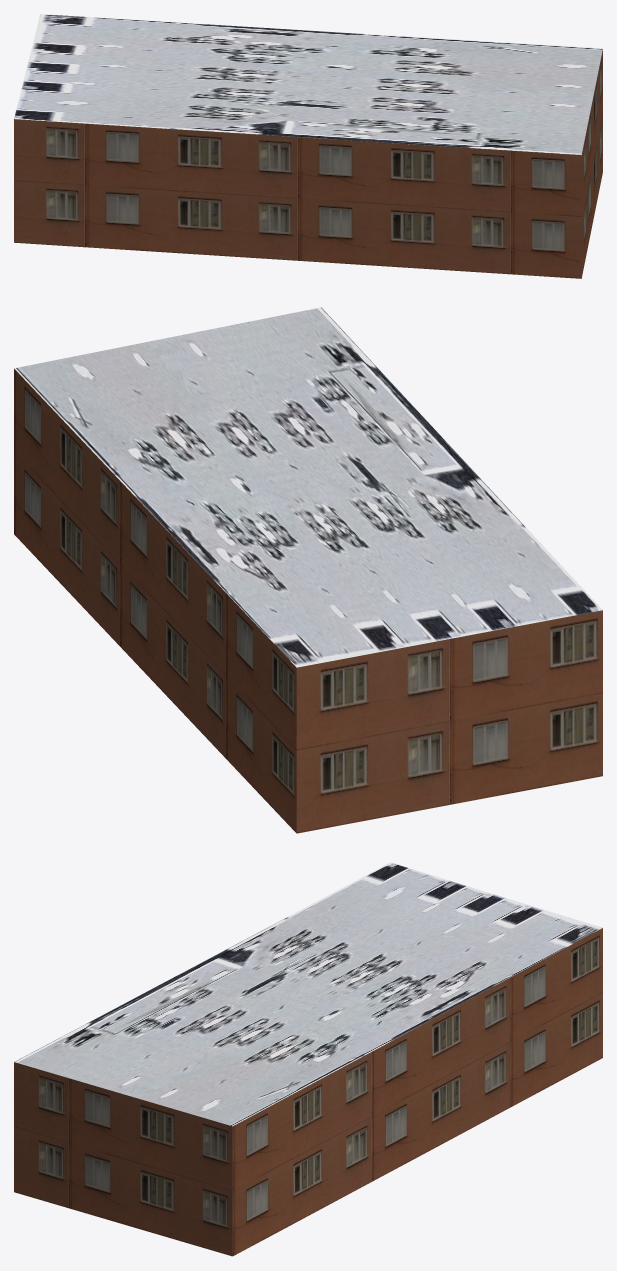
Rendered from ResTex__4827.fbx.
3 renders of one model, top to bottom at view 1: azimuth 30°, elevation 25°; view 2: azimuth 150°, elevation 25°; view 3: azimuth 270°, elevation 25°, orthographic. The views are drawn at different scales.
Parts seen in each view (by area): view 1: CityEngineMaterial_20_m, CityEngineMaterial_4_m; view 2: CityEngineMaterial_4_m, CityEngineMaterial_20_m; view 3: CityEngineMaterial_20_m, CityEngineMaterial_4_m.
Part boxes in pixels (<box>): CityEngineMaterial_20_m: <box>14,49,602,278</box>; CityEngineMaterial_4_m: <box>14,14,602,155</box>; CityEngineMaterial_4_m: <box>14,307,602,667</box>; CityEngineMaterial_20_m: <box>14,369,602,833</box>; CityEngineMaterial_20_m: <box>14,928,602,1256</box>; CityEngineMaterial_4_m: <box>14,862,602,1126</box>.
Size of the model in its own units: 26.1 by 6 by 24.61.
Materials: 2 (2 with a texture image).
